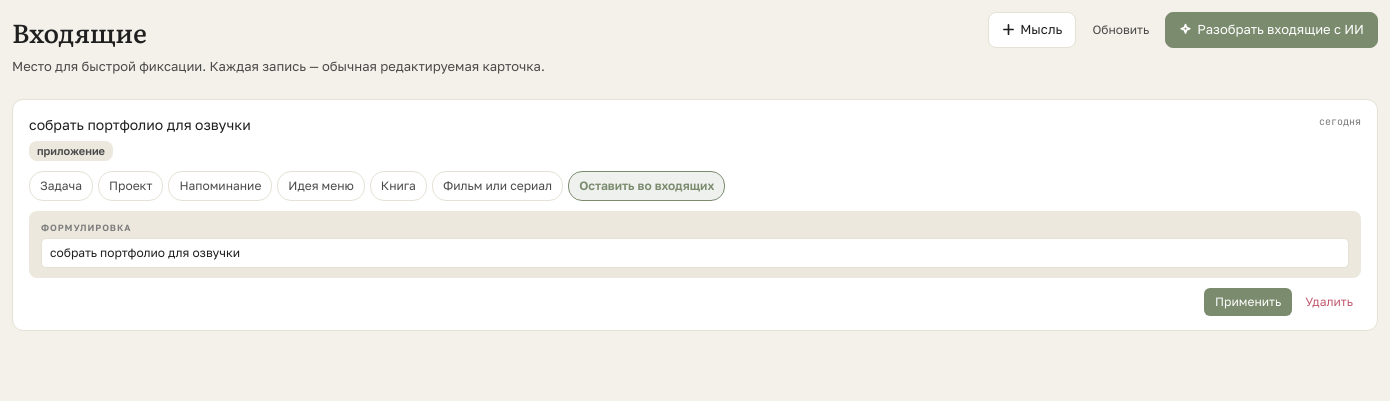
разбор входящих › у задачи по-прежнему спрашивается проект, а не направление
Check: the text "собрать портфолио для озвучки" is shown, box [29,116,251,132]
Click the button "Задача" at x=61, y=186, box [29,171,93,201]
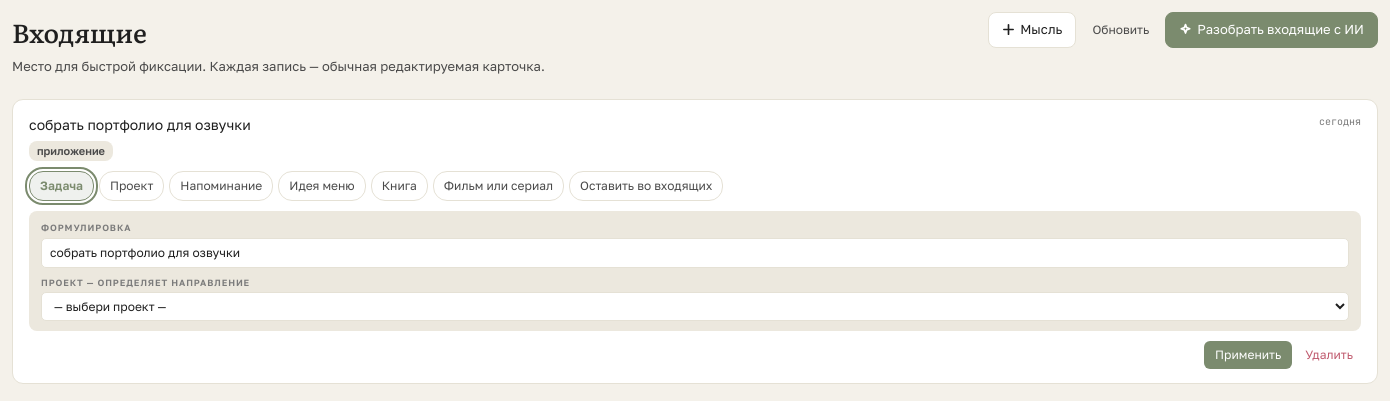
Check: the dropdown labelled "Проект — определяет направление" is shown, box [41,292,1349,321]
